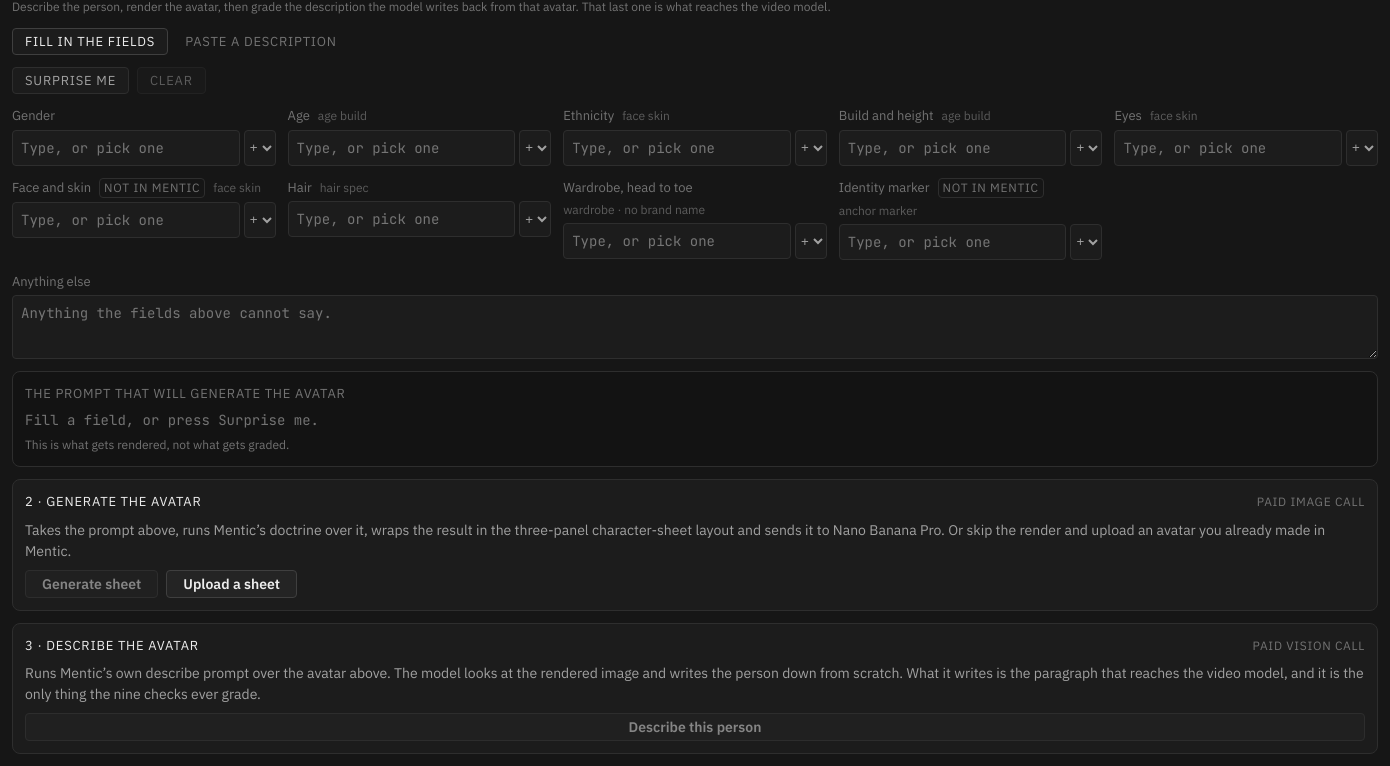
Scenario: AvatarComposer › never submits the assembled prompt, however full the form is
In the field labelled "Gender": (126, 148) [12,130,240,166], type "woman"
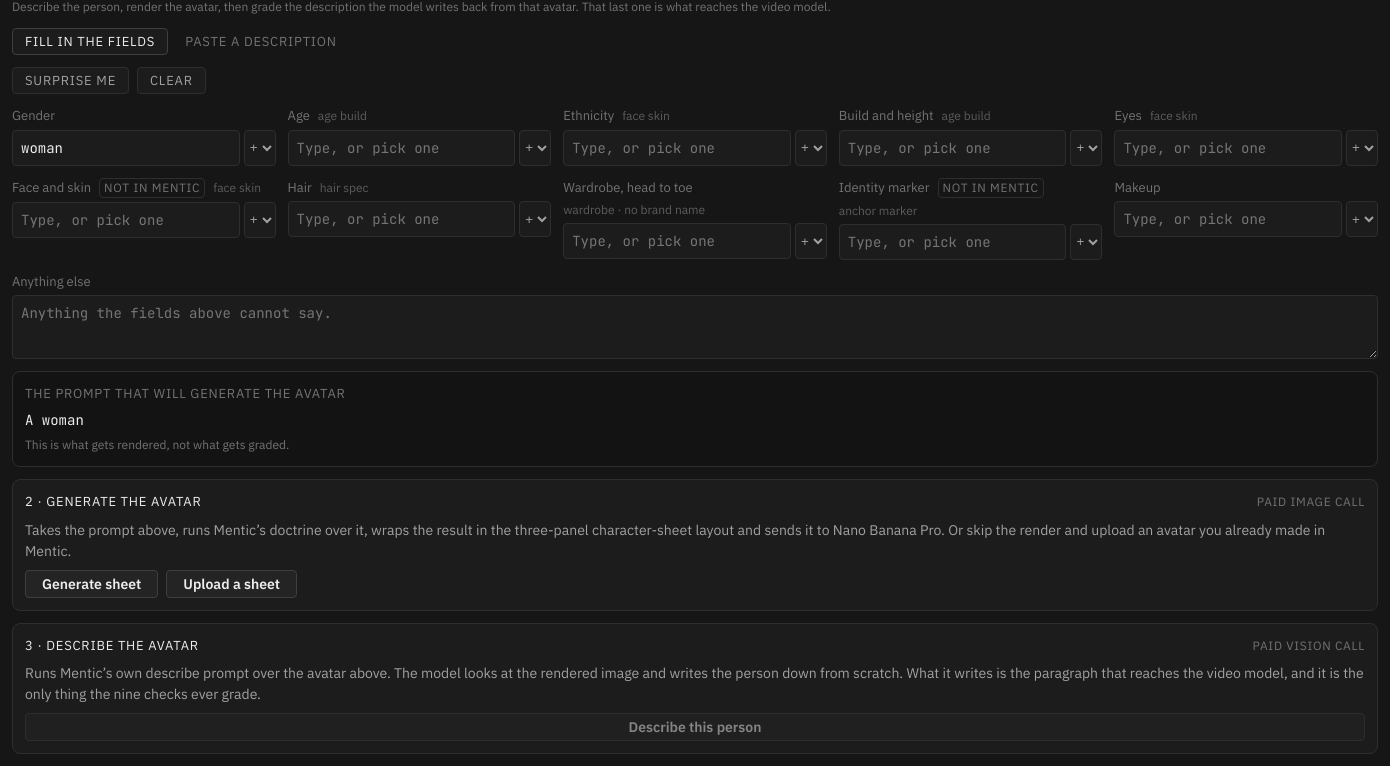
In the field labelled "Hair": (401, 219) [288,201,515,237], type "blonde bob"
(page scrolled)
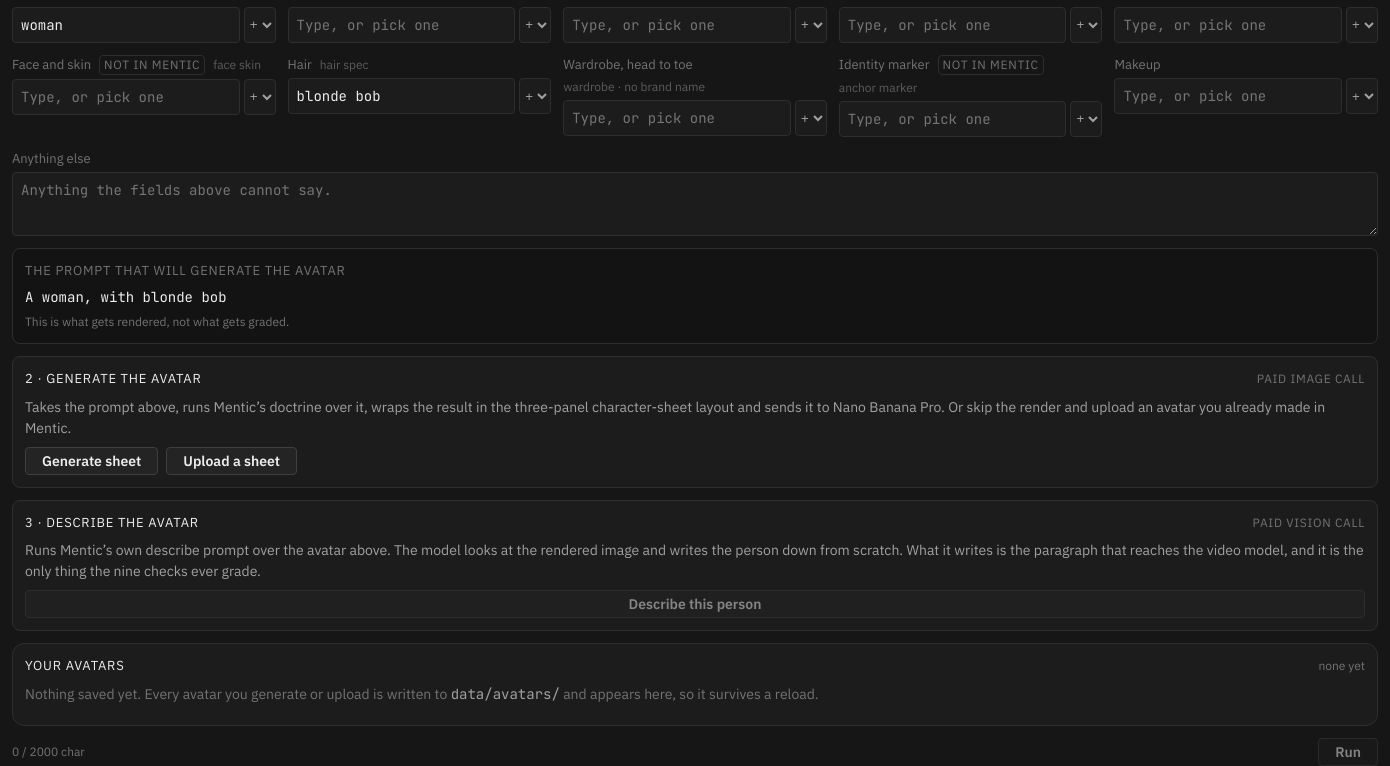
expect the button "Run" is disabled: met, box [1318,738,1378,765]
expect the text "A woman, with blonde bob" is shown: met, box [25,288,227,306]
